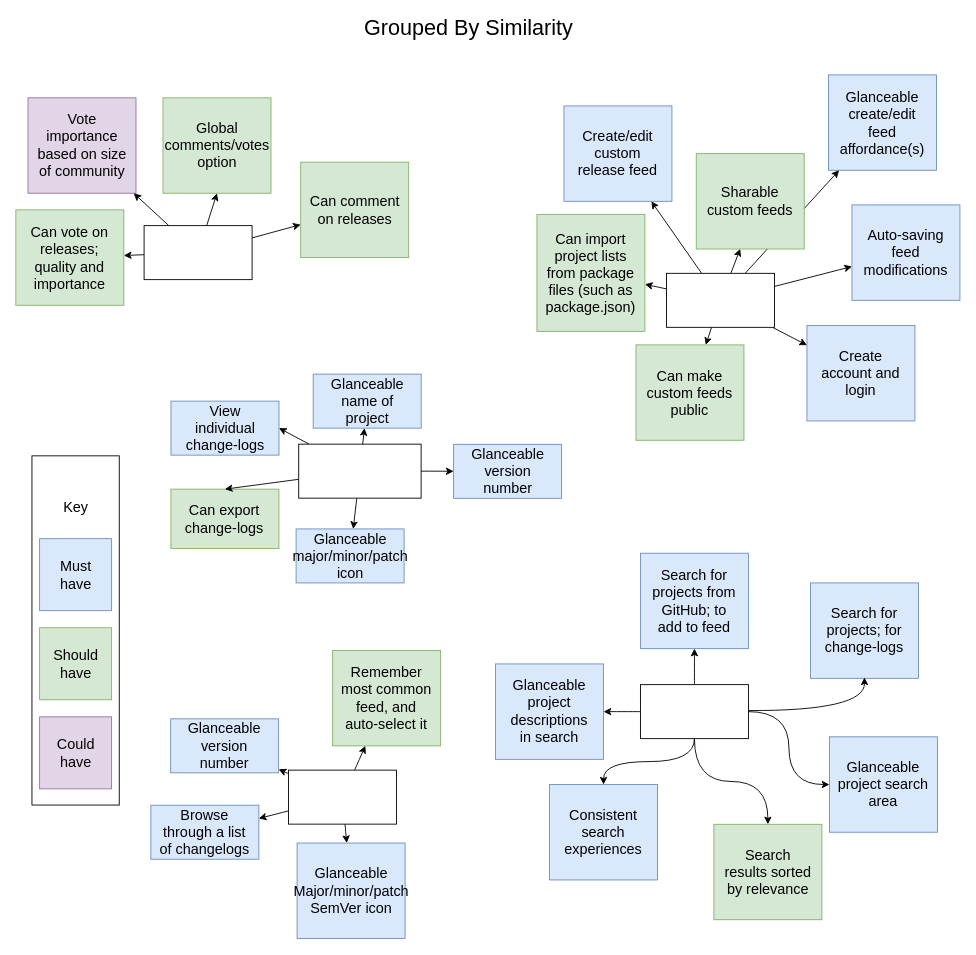
This 976x955 diagram has some shape labels left out. Here are the shapes that lost their labels. From the top down, the centre of each, then its label:
At (197,252): "Community Involvement".
At (720,299): "Custom Release Feeds".
At (359,470): "View change-log".
At (694,711): "Project search".
At (342,796): "Release feeds".
